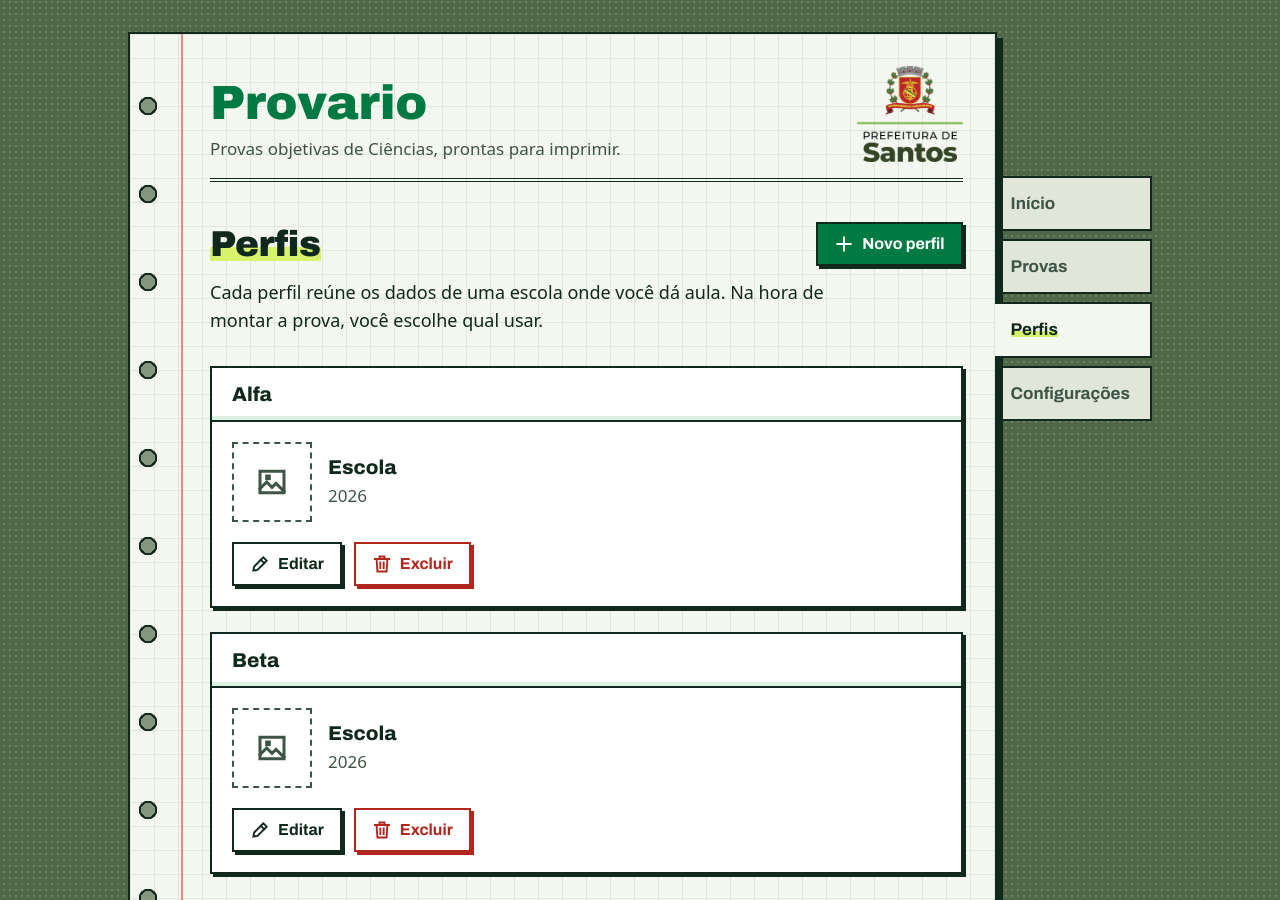
Lista de perfis › exclui somente após confirmação; Cancelar e Esc mantêm o perfil
The width and height of the screenshot is (1280, 900).
Click the button with aria-label "Excluir Alfa" at (412, 564), box [354,542,471,586]
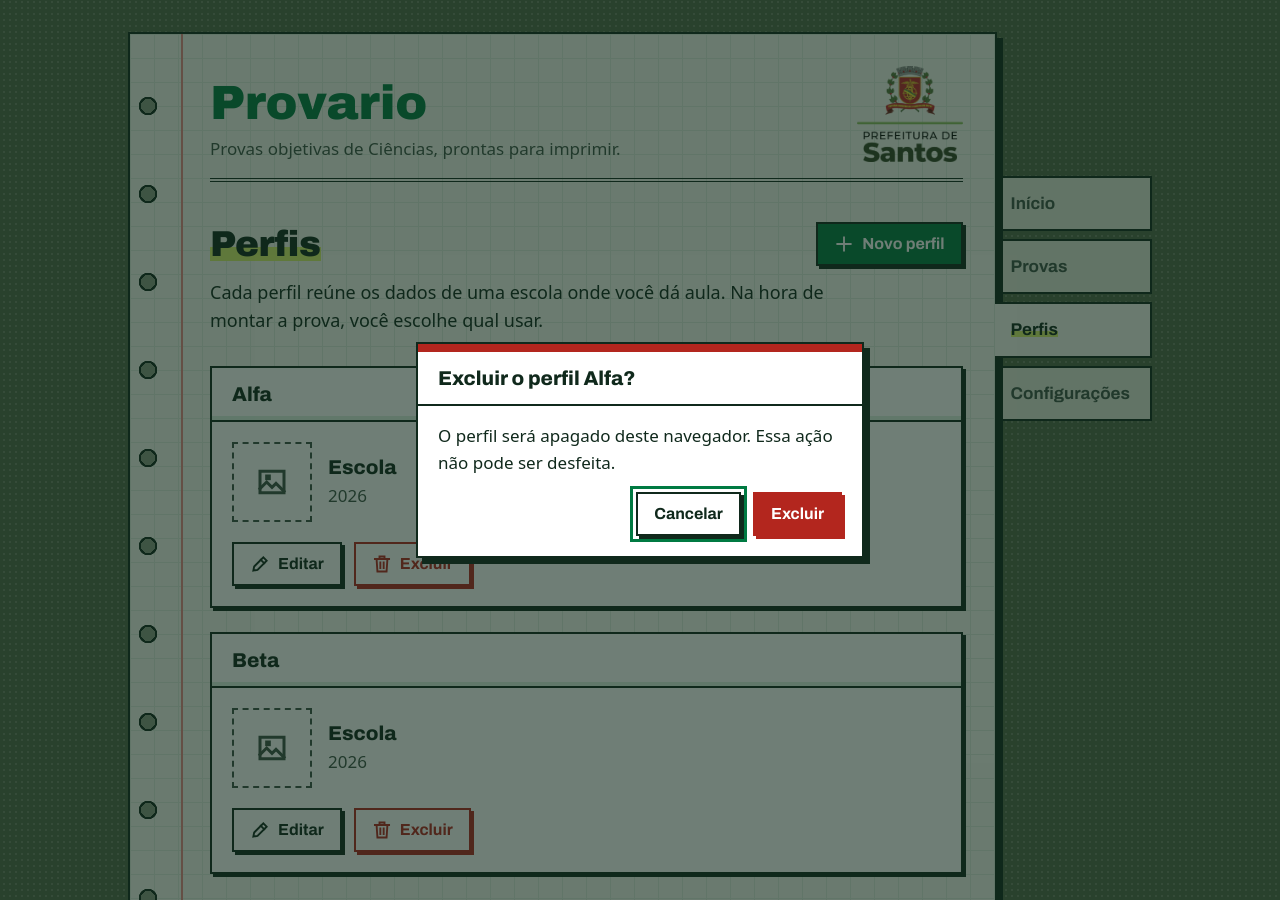
Click the button "Cancelar" at (689, 514), box [636,492,741,536]
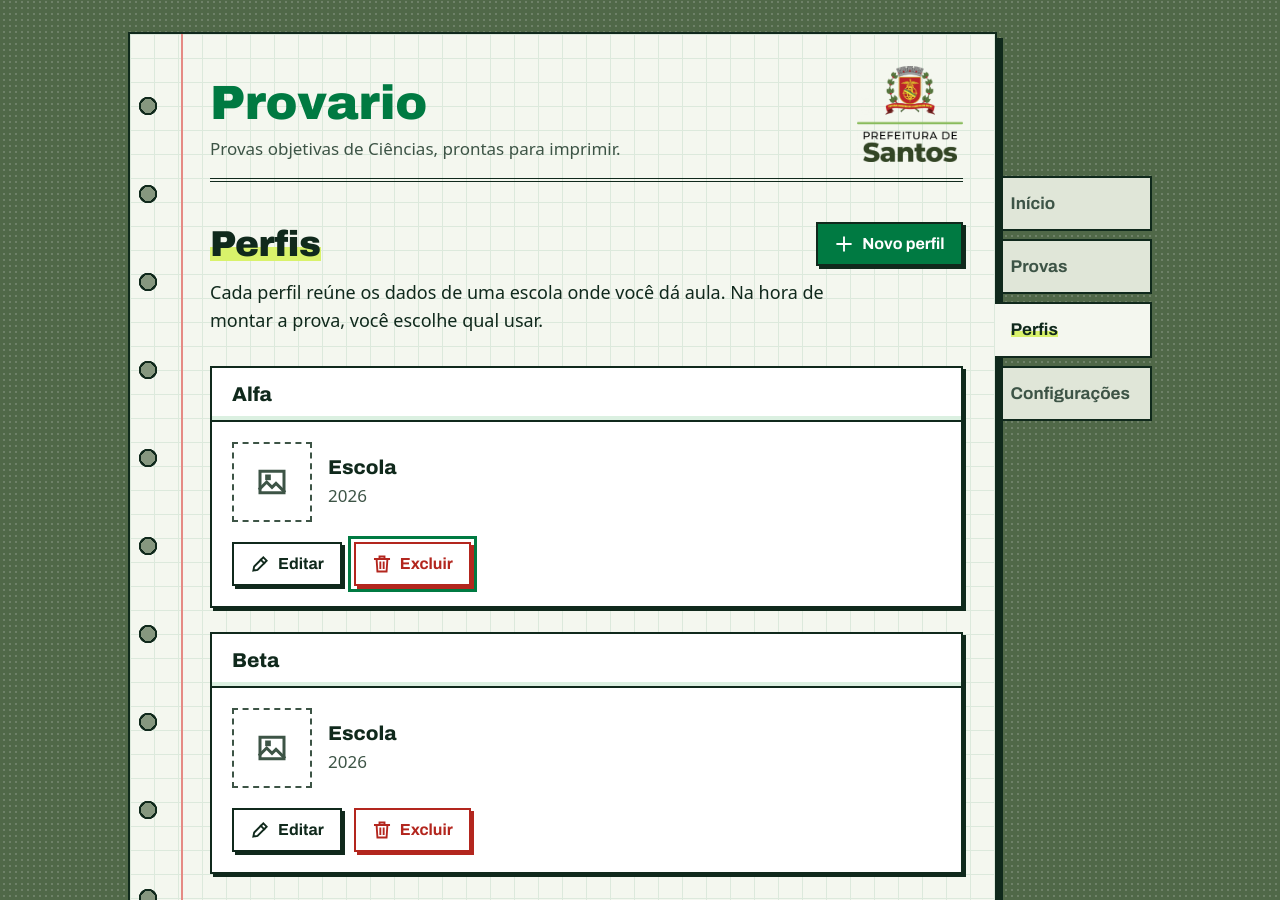
Check: the dialog is gone
Click the button with aria-label "Excluir Alfa" at (412, 564), box [354,542,471,586]
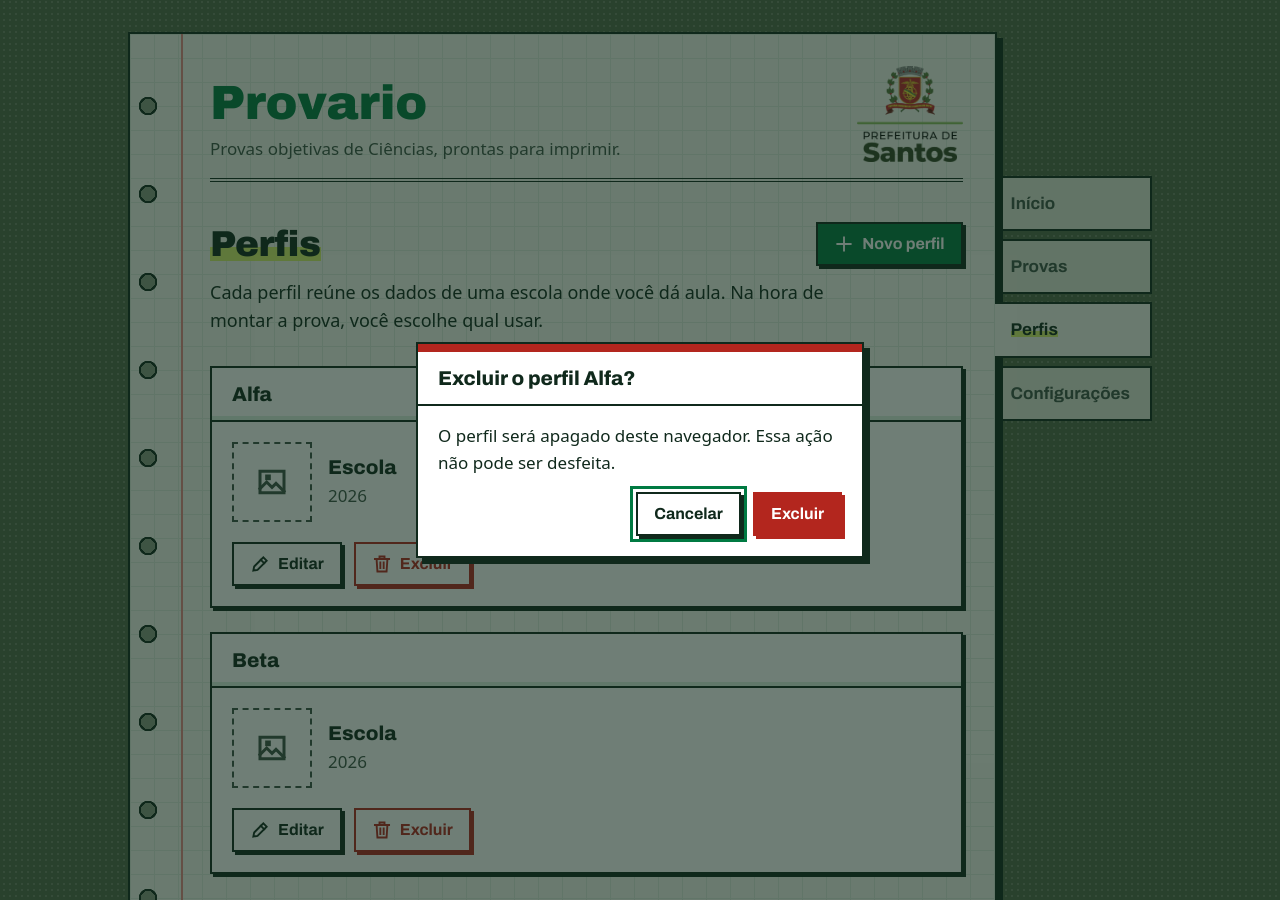
Press Escape
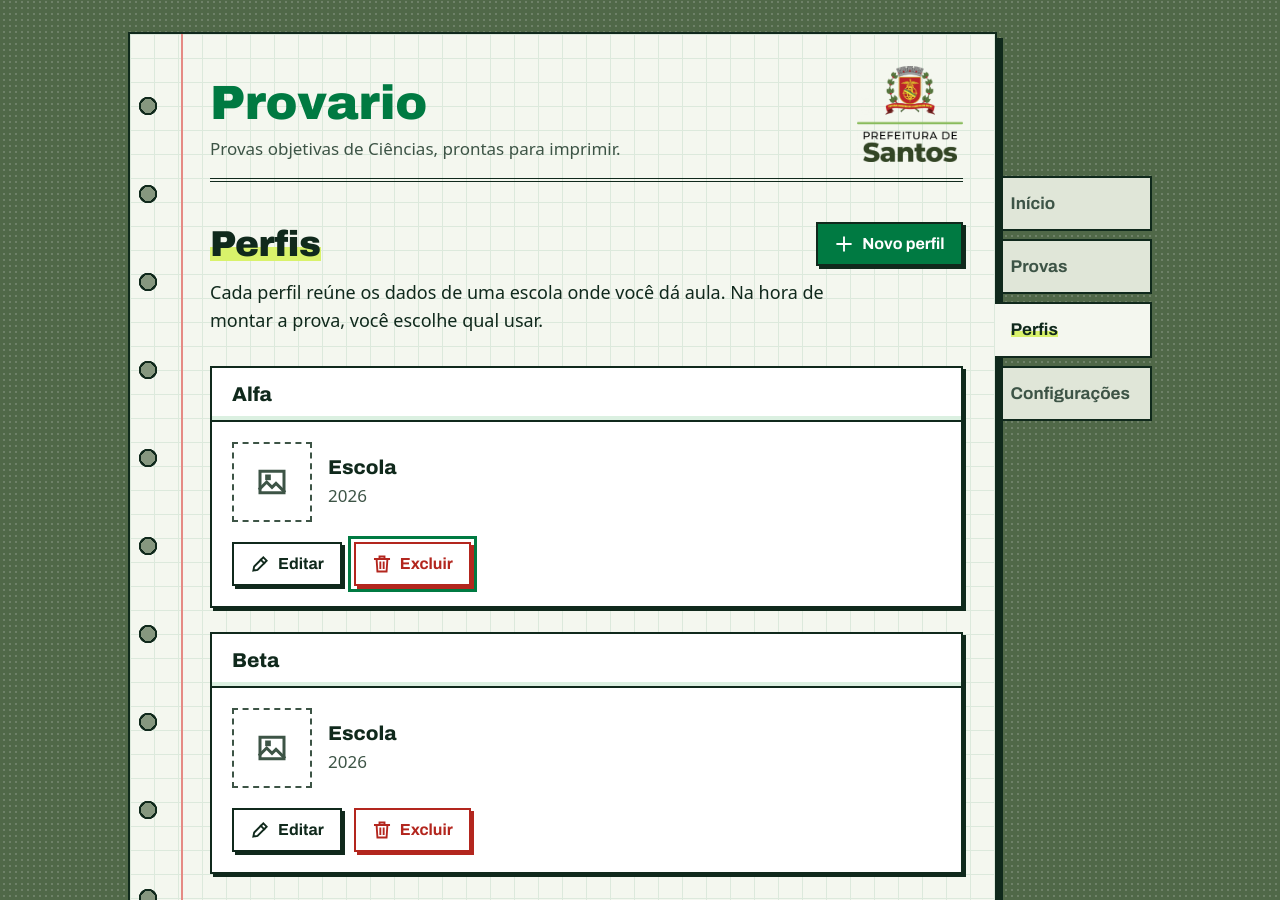
Check: the dialog is gone
Click the button with aria-label "Excluir Alfa" at (412, 564), box [354,542,471,586]
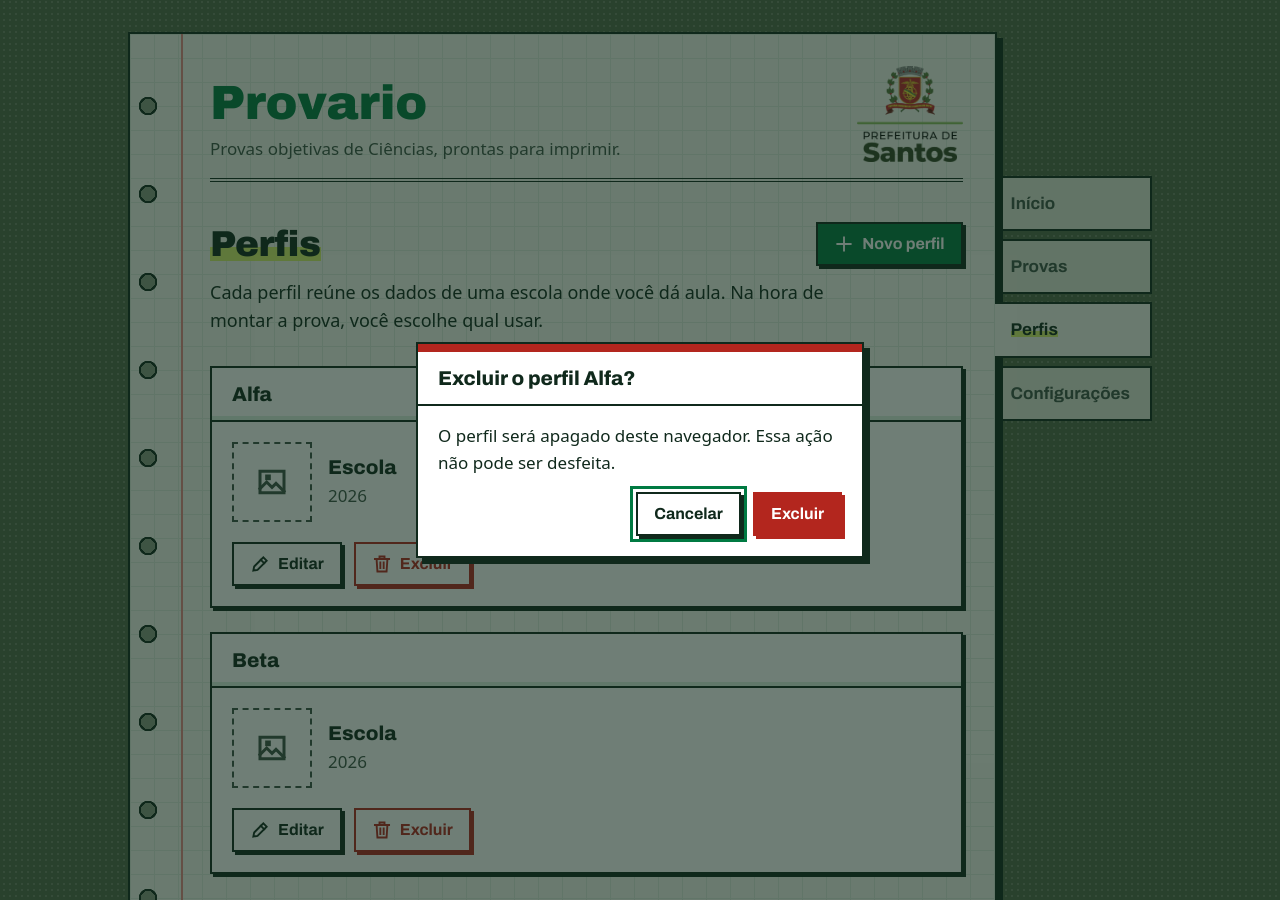
Click the button "Excluir" at (798, 514), box [753,492,842,536]
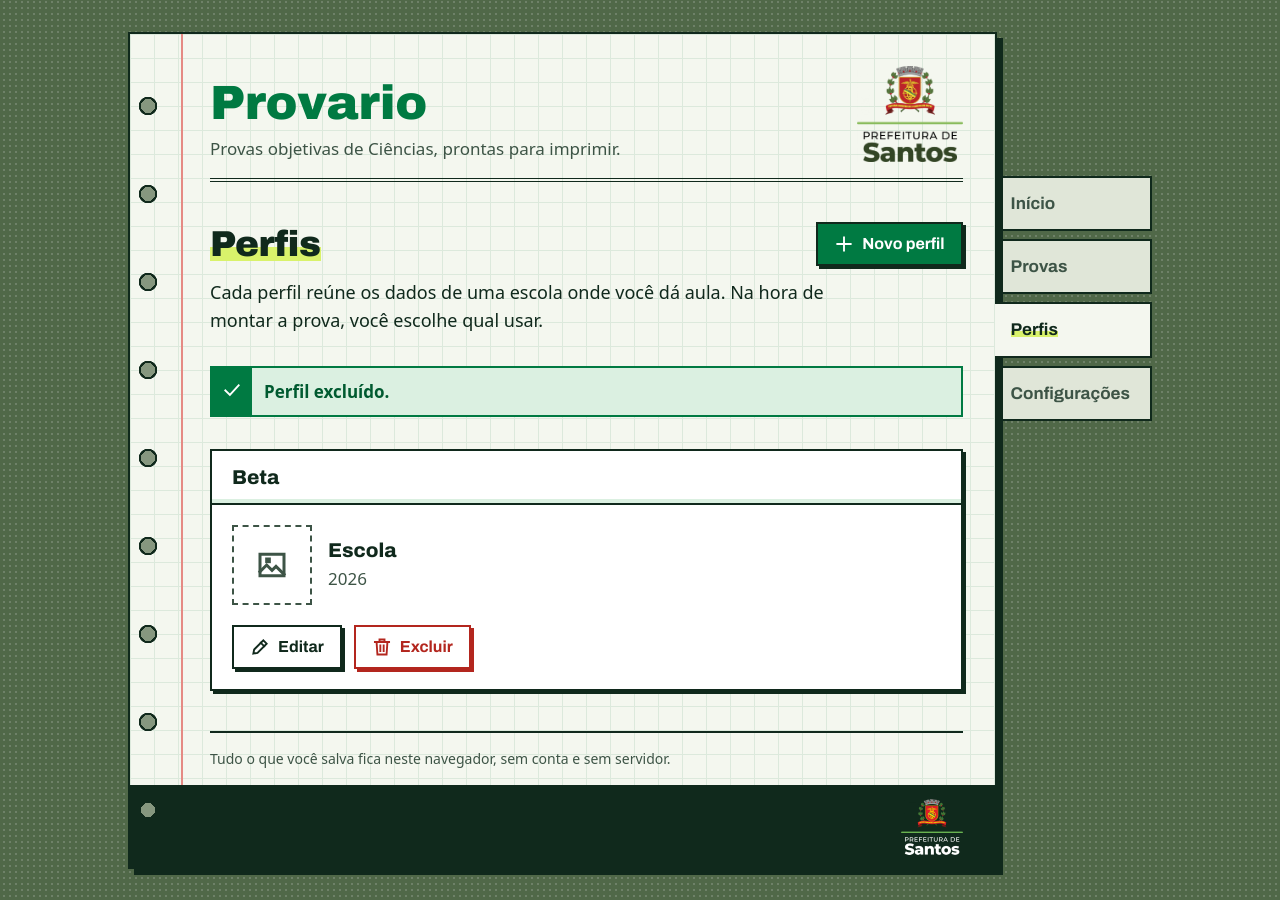
Check: the message reads "Perfil excluído.", box [264,380,389,403]
Check: the heading "Alfa" is gone
